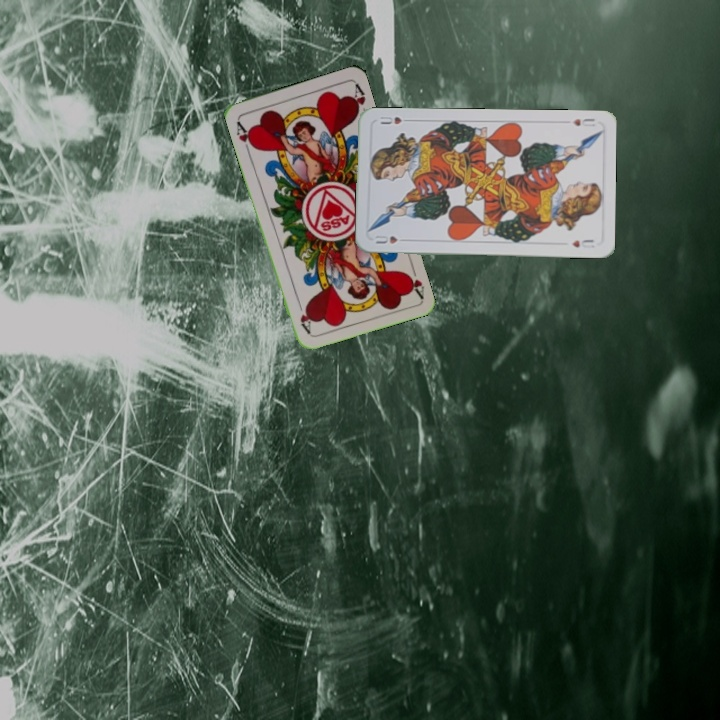HA: (232, 116, 258, 155), (402, 260, 427, 300)
HU: (371, 231, 400, 246), (569, 114, 597, 129)
